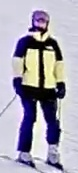skier: (0, 11, 78, 173)
